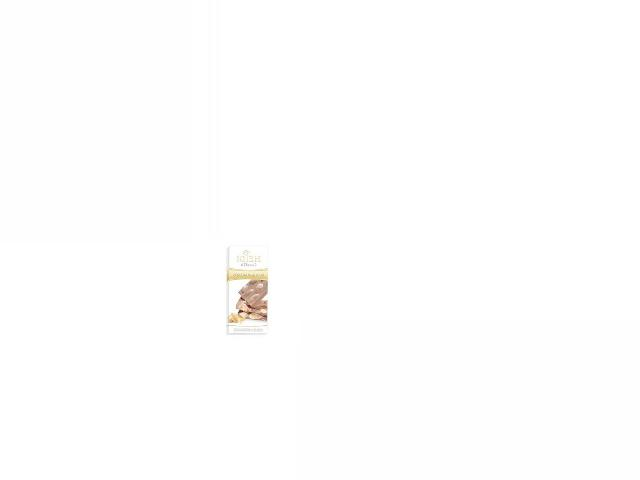chocolate: (218, 240, 277, 333)
